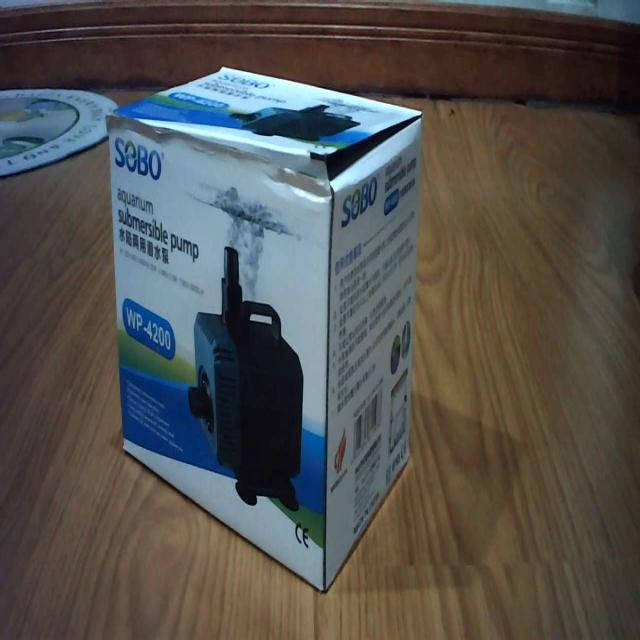SOBO_WP_4200: (102, 41, 425, 588)
